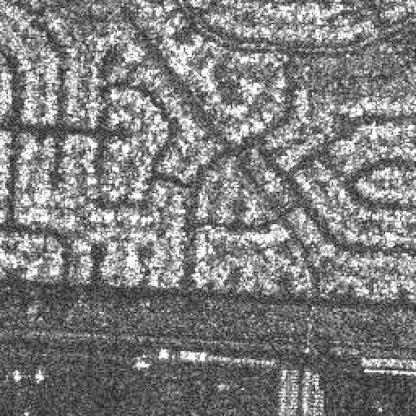airplane: (34, 369, 46, 382), (10, 368, 22, 380)
